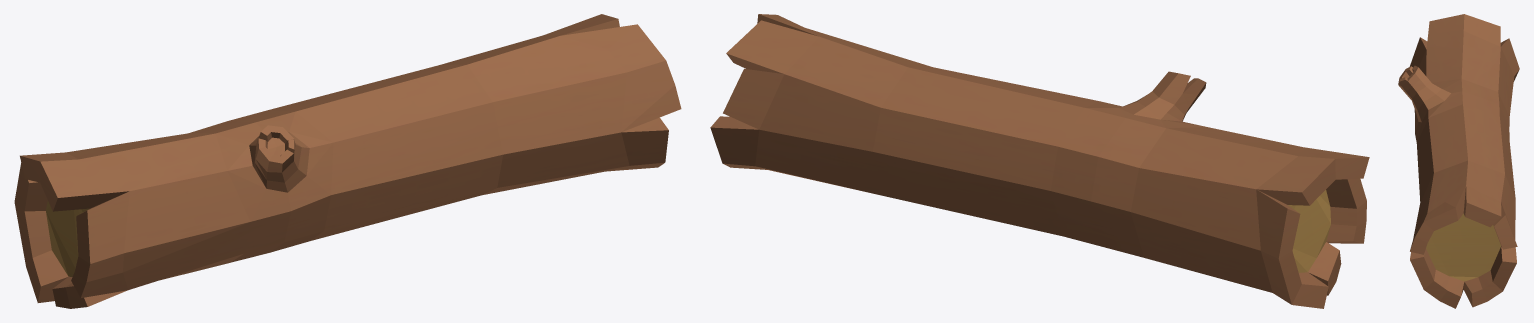
File: Tree_Trunk_01.fbx
The picture shows the model from 3 angles, left to right: view 1: azimuth 30°, elevation 25°; view 2: azimuth 150°, elevation 25°; view 3: azimuth 270°, elevation 25°; orthographic projection. The views are drawn at different scales.
Visible parts, largest first — view 1: Tree_Trunk_01; view 2: Tree_Trunk_01; view 3: Tree_Trunk_01.
Part boxes in pixels (x1,y1,x2,y2): Tree_Trunk_01: [14, 14, 681, 308]; Tree_Trunk_01: [710, 14, 1369, 308]; Tree_Trunk_01: [1398, 14, 1519, 308].
Bounding box in the file's own units: 368 × 93.39 × 95.04.
